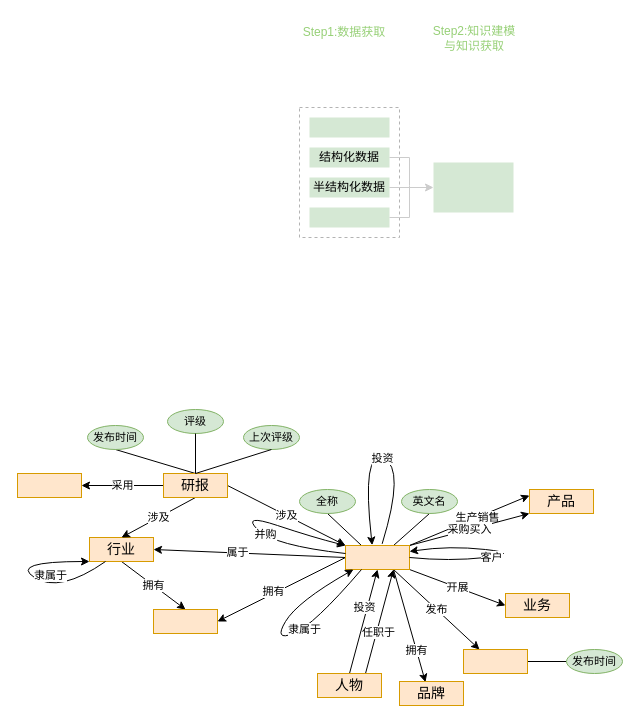
The diagram is 640 pixels wide and 723 high, and some of its shapes have lost their labels. The box of each missing label's shape, as (x1, y1, x2, y2) in pixels:
实体抽取 关系抽取 属性抽取: (433, 162, 513, 212)
指标: (16, 472, 82, 498)
文章: (462, 648, 528, 674)
机构: (344, 544, 410, 570)
标准化数据: (309, 117, 389, 137)
非结构化数据: (309, 207, 389, 227)
风险: (152, 608, 218, 634)
